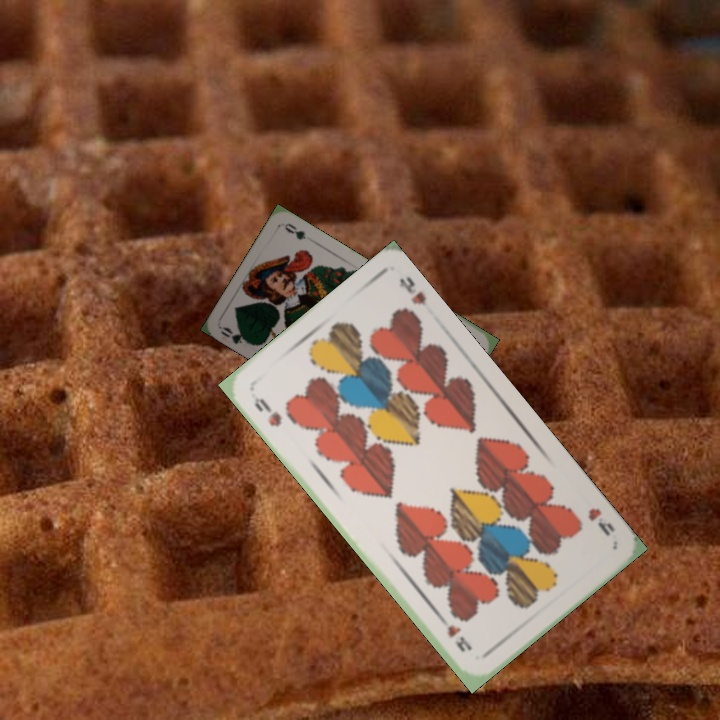GO: (219, 323, 256, 348)
H9: (250, 393, 285, 430), (583, 504, 618, 539)
